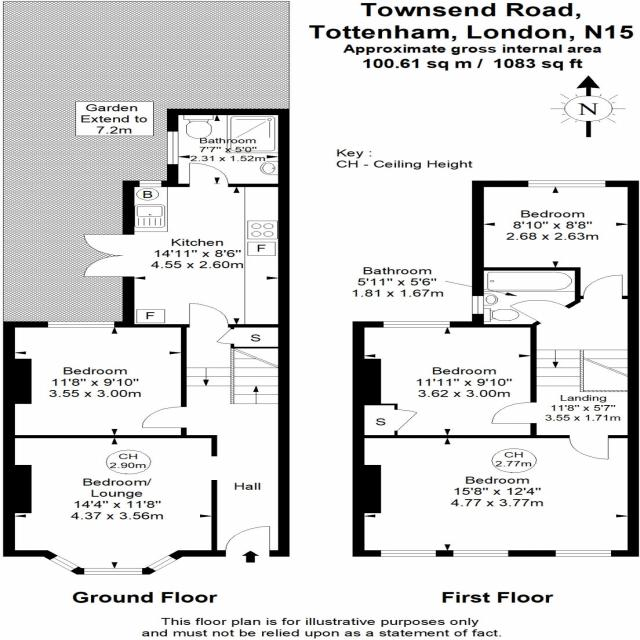DOOR: (507, 299, 571, 325), (225, 525, 271, 557), (579, 274, 625, 299), (490, 400, 537, 424), (187, 162, 230, 187), (187, 303, 230, 328), (566, 435, 609, 460), (142, 405, 187, 428)
DOUBLE DOOR: (81, 232, 137, 280)
ROOM: (352, 435, 640, 557), (83, 161, 291, 328), (3, 435, 217, 575), (353, 321, 538, 439), (2, 321, 187, 438), (472, 180, 640, 299), (167, 109, 290, 187)
WINDOW: (525, 180, 608, 188), (46, 554, 82, 572), (144, 554, 178, 573), (80, 567, 145, 575), (45, 321, 116, 328), (382, 321, 451, 328), (553, 550, 613, 558), (166, 131, 180, 165), (378, 550, 437, 557), (452, 550, 511, 557), (472, 294, 484, 315), (138, 181, 163, 188)
